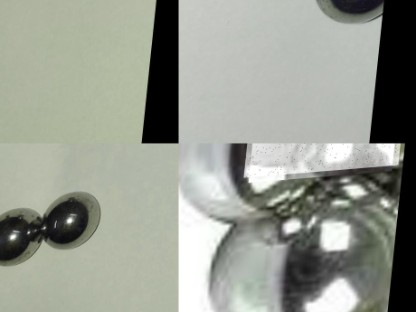ironball: (201, 194, 402, 311), (178, 143, 333, 259), (245, 142, 407, 180), (41, 188, 119, 249), (0, 202, 46, 267), (307, 0, 378, 26)
